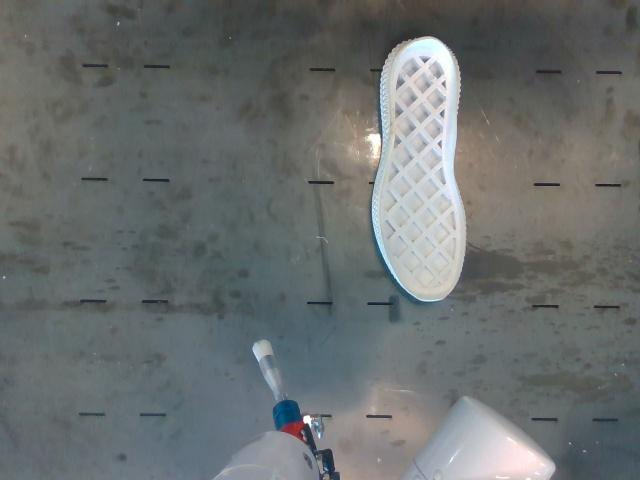shoes: (379, 38, 465, 300)
